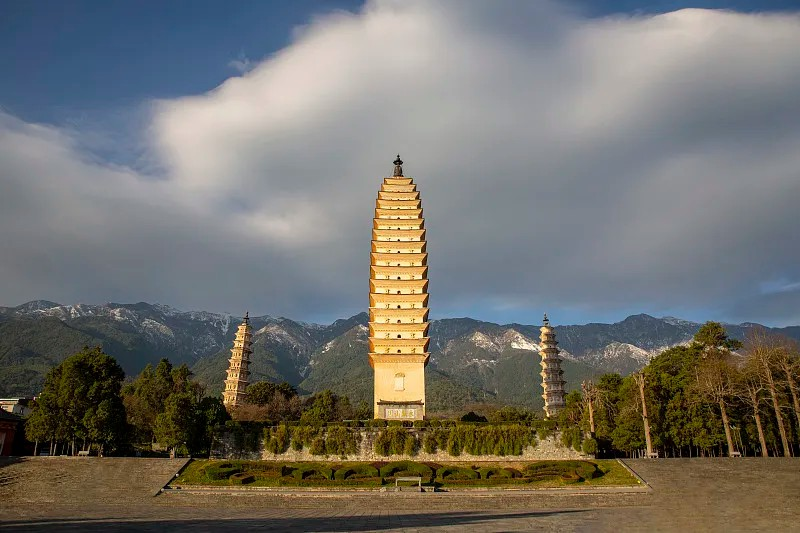ThreePagoda: (367, 153, 430, 424)
